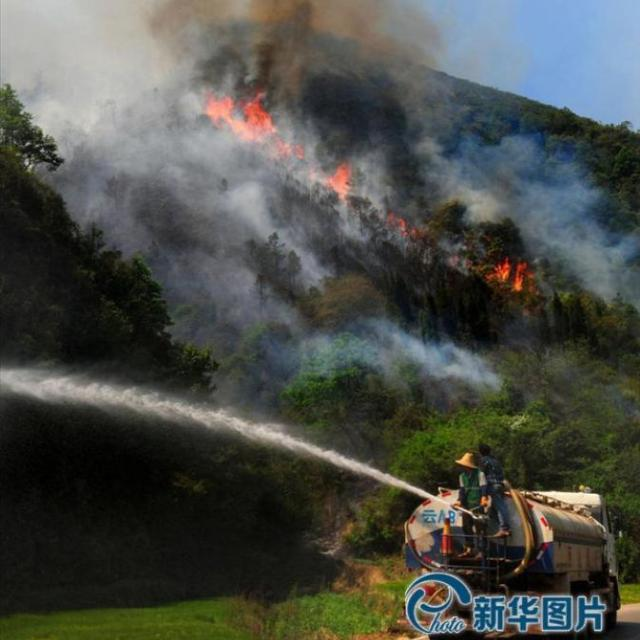fire: (205, 90, 358, 202), (386, 215, 539, 300)
